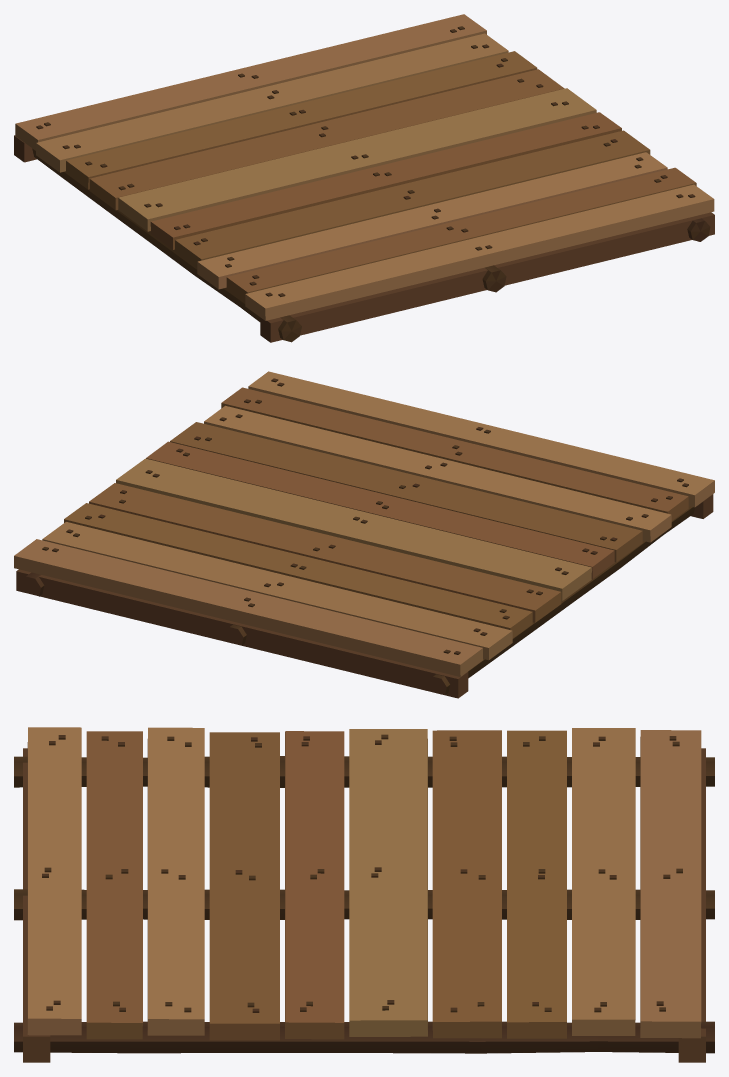
The model's file is floor.glb.
The picture shows the model from 3 angles, top to bottom: view 1: azimuth 30°, elevation 25°; view 2: azimuth 150°, elevation 25°; view 3: azimuth 270°, elevation 25°; orthographic projection. The views are drawn at different scales.
Visible parts, largest first — view 1: b_floor_solid; view 2: b_floor_solid; view 3: b_floor_solid.
Part boxes in pixels (left/top/right/bottom): b_floor_solid: left=14, top=14, right=714, bottom=342; b_floor_solid: left=14, top=371, right=714, bottom=698; b_floor_solid: left=14, top=727, right=714, bottom=1062.
Bounding box in the file's own units: 3.07 × 0.238 × 3.08.
